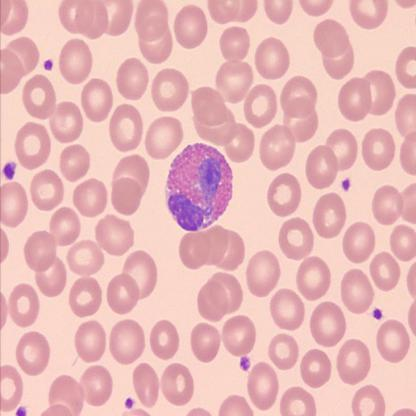Eosinophil: (163, 141, 234, 232)
